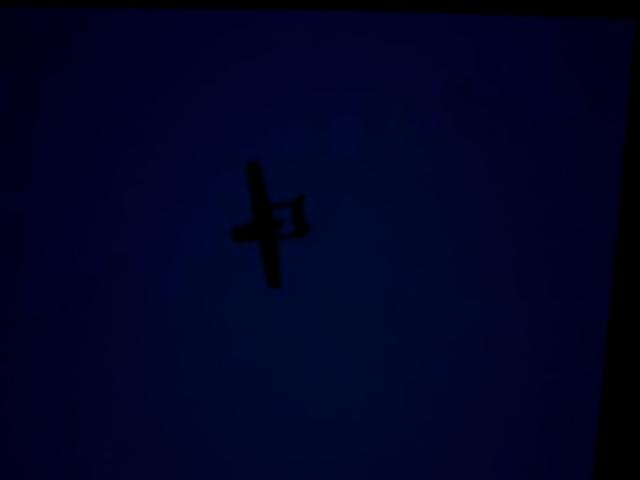uav: (228, 150, 325, 292)
